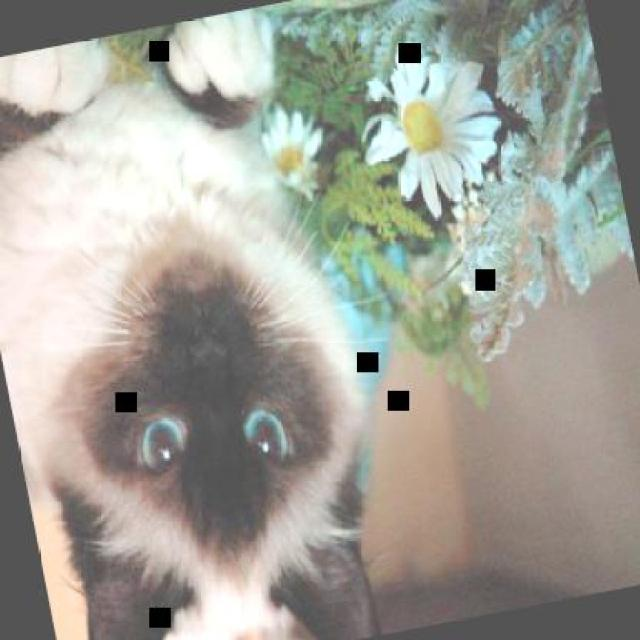cat: (0, 3, 406, 639)
